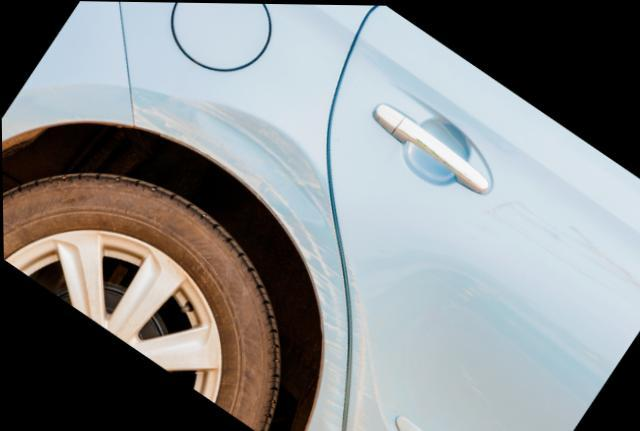dent: (186, 102, 329, 224)
scratch: (486, 197, 640, 314), (278, 214, 346, 431), (345, 266, 390, 431), (132, 95, 207, 143)
